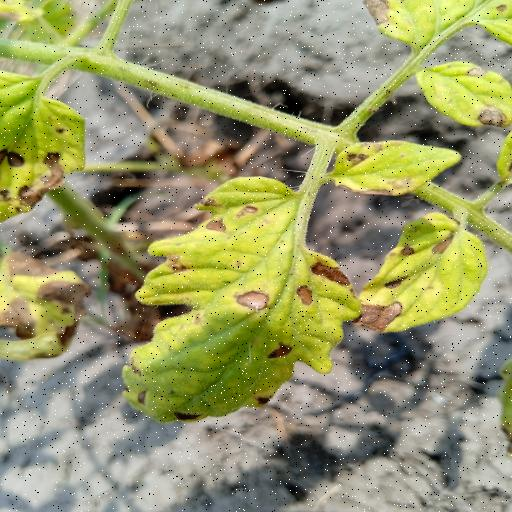Tomato_Brown_Spots: (110, 168, 362, 426)
